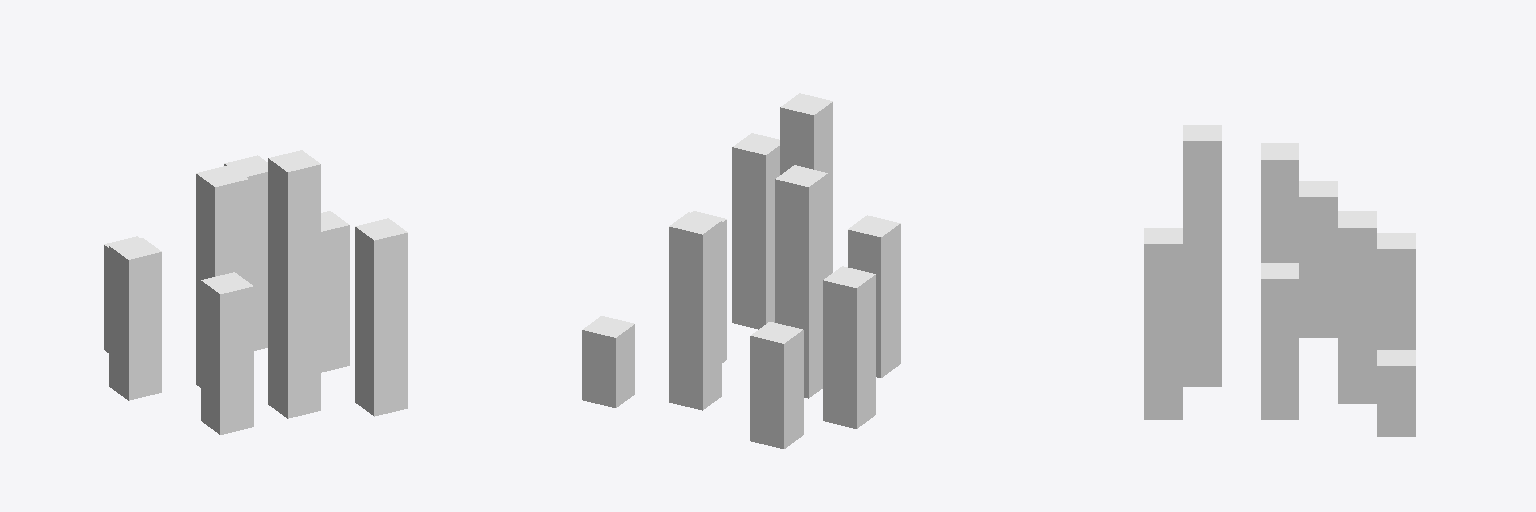
The model's file is grass_tall.obj.
3 views of the same model, side by side, from view 1: azimuth 30°, elevation 25°; view 2: azimuth 150°, elevation 25°; view 3: azimuth 270°, elevation 25° (orthographic).
Parts seen in each view (by area): view 1: object 1; view 2: object 1; view 3: object 1.
Boxes of the visible parts, <box> form: object 1: <box>104,150,407,434</box>; object 1: <box>582,93,900,448</box>; object 1: <box>1144,125,1415,436</box>.
Size of the model in its own units: 0.7 by 0.7 by 0.7.